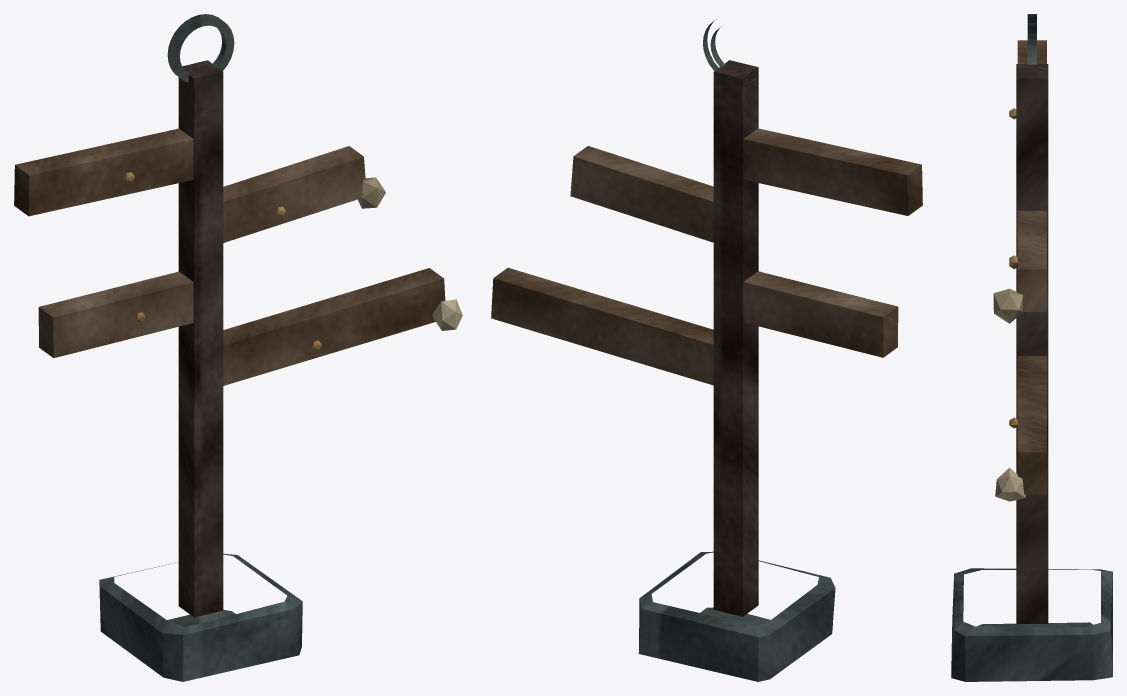
Rendered from 0631_signpost_06.glb.
3 views of the same model, side by side, from view 1: azimuth 30°, elevation 25°; view 2: azimuth 150°, elevation 25°; view 3: azimuth 270°, elevation 25° (orthographic).
Visible parts, largest first — view 1: wood, wood_dark, stone_dark, iron, bone; view 2: wood, wood_dark, stone_dark; view 3: wood_dark, stone_dark, wood, bone, iron.
Part boxes in pixels (bbox=[...]): wood: bbox=[14, 128, 445, 385]; wood_dark: bbox=[178, 60, 223, 617]; stone_dark: bbox=[99, 553, 302, 681]; iron: bbox=[167, 14, 234, 82]; bone: bbox=[354, 177, 462, 330]; wood: bbox=[491, 128, 922, 385]; wood_dark: bbox=[713, 60, 758, 616]; stone_dark: bbox=[638, 551, 835, 681]; wood_dark: bbox=[1016, 64, 1048, 623]; stone_dark: bbox=[951, 568, 1112, 681]; wood: bbox=[1017, 40, 1046, 494]; bone: bbox=[993, 288, 1025, 501]; iron: bbox=[1027, 14, 1036, 64].
Bounding box in the file's own units: 2.19 × 3.08 × 0.7101.
6 materials, 6 textured.
